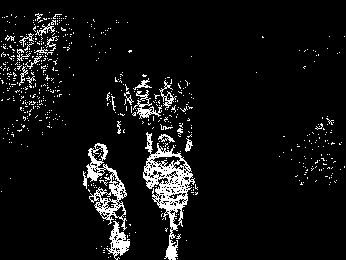person: (81, 142, 139, 259), (155, 135, 203, 260), (108, 71, 132, 136), (178, 76, 202, 135), (137, 74, 154, 132), (162, 73, 176, 131)
